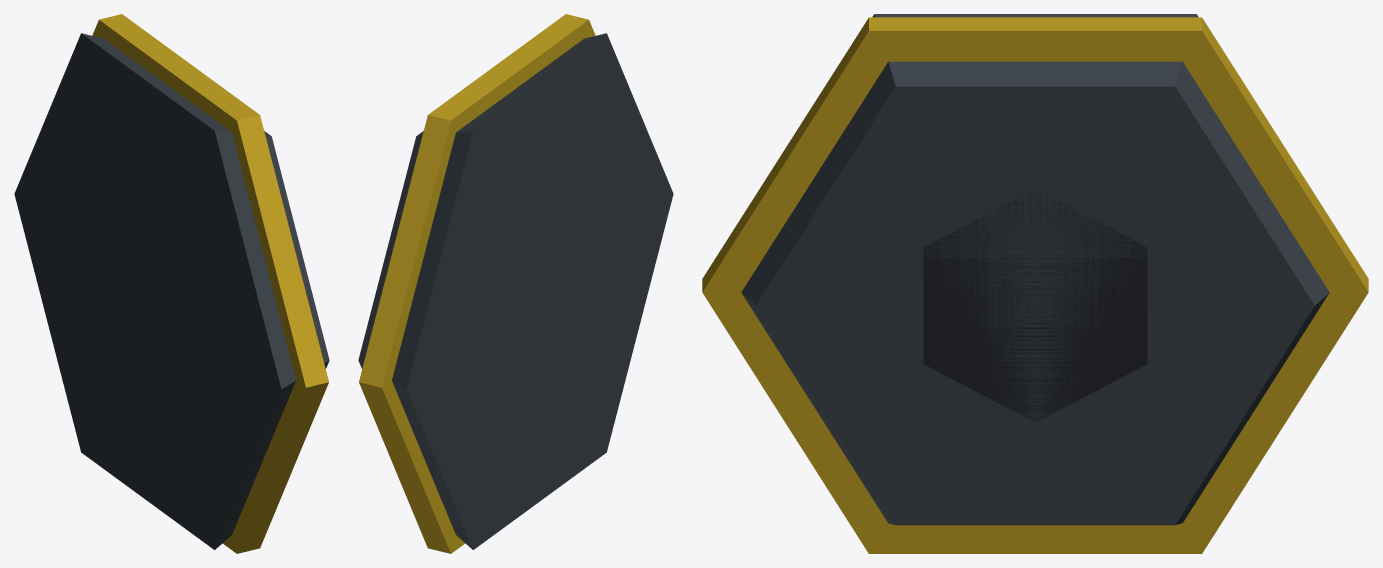
File: bv1_memory.obj
The picture shows the model from 3 angles, left to right: view 1: azimuth 30°, elevation 25°; view 2: azimuth 150°, elevation 25°; view 3: azimuth 270°, elevation 25°; orthographic projection. The views are drawn at different scales.
Visible parts, largest first — view 1: bv1_memory; view 2: bv1_memory; view 3: bv1_memory.
Boxes of the visible parts, x1,y1,x2,y2 form: bv1_memory: (14,14,329,553); bv1_memory: (358,14,673,553); bv1_memory: (702,14,1368,553).
Size of the model in its own units: 0.0855 by 0.5369 by 0.62.
